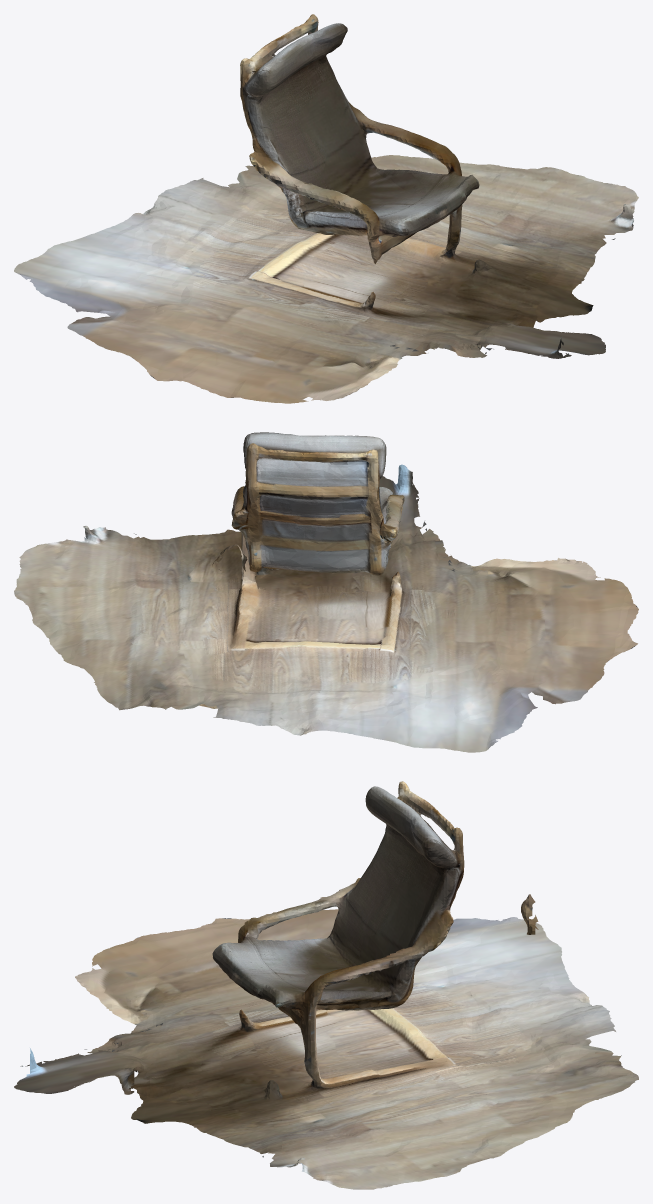
The model's file is scan.glb.
The picture shows the model from 3 angles, top to bottom: view 1: azimuth 30°, elevation 25°; view 2: azimuth 150°, elevation 25°; view 3: azimuth 270°, elevation 25°; orthographic projection. The views are drawn at different scales.
Parts seen in each view (by area): view 1: mesh; view 2: mesh; view 3: mesh.
Part boxes in pixels (x1,y1,x2,y2): mesh: (14,14,638,403); mesh: (14,432,638,752); mesh: (14,781,638,1189).
Bounding box in the file's own units: 2.64 × 1.06 × 2.42.
1 material, 1 textured.
